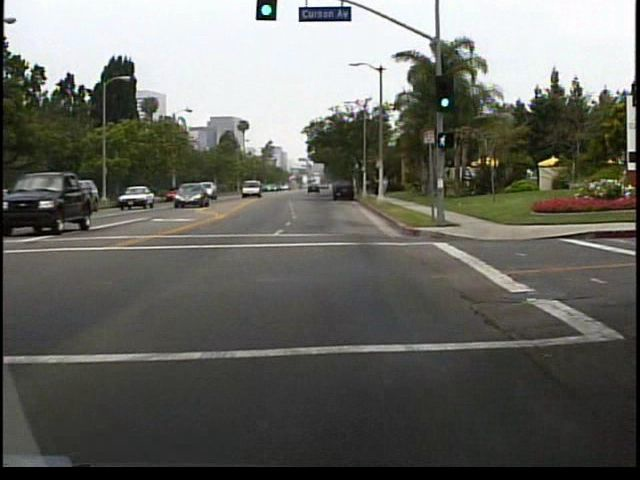person: (383, 173, 393, 196), (374, 176, 383, 200)
